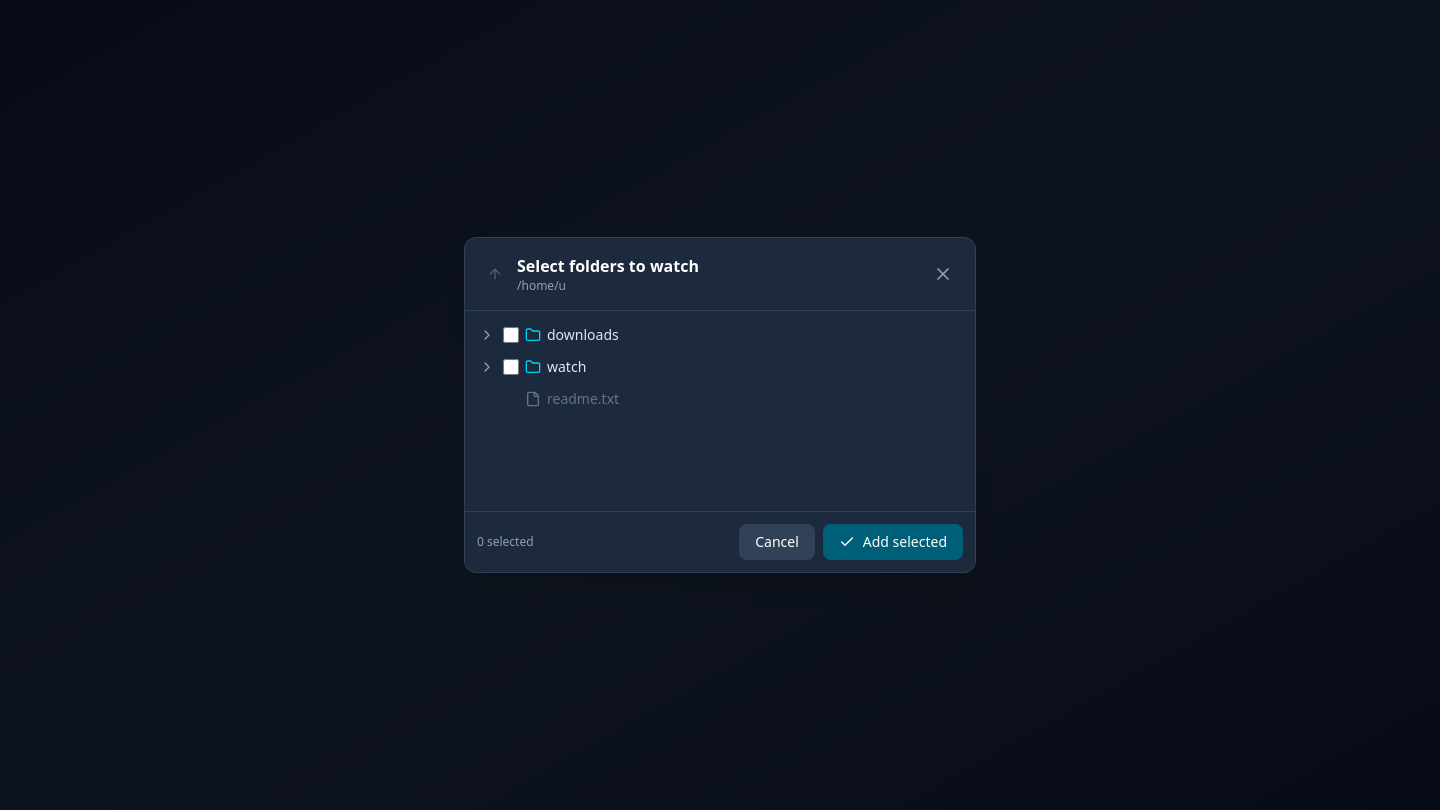
Test: FolderBrowser › multi-select: checkbox or name toggles, and confirm hands back every path
Later steps or results of the test are not shown.
Click the button "downloads" at x=583, y=334, box [547,325,959,345]
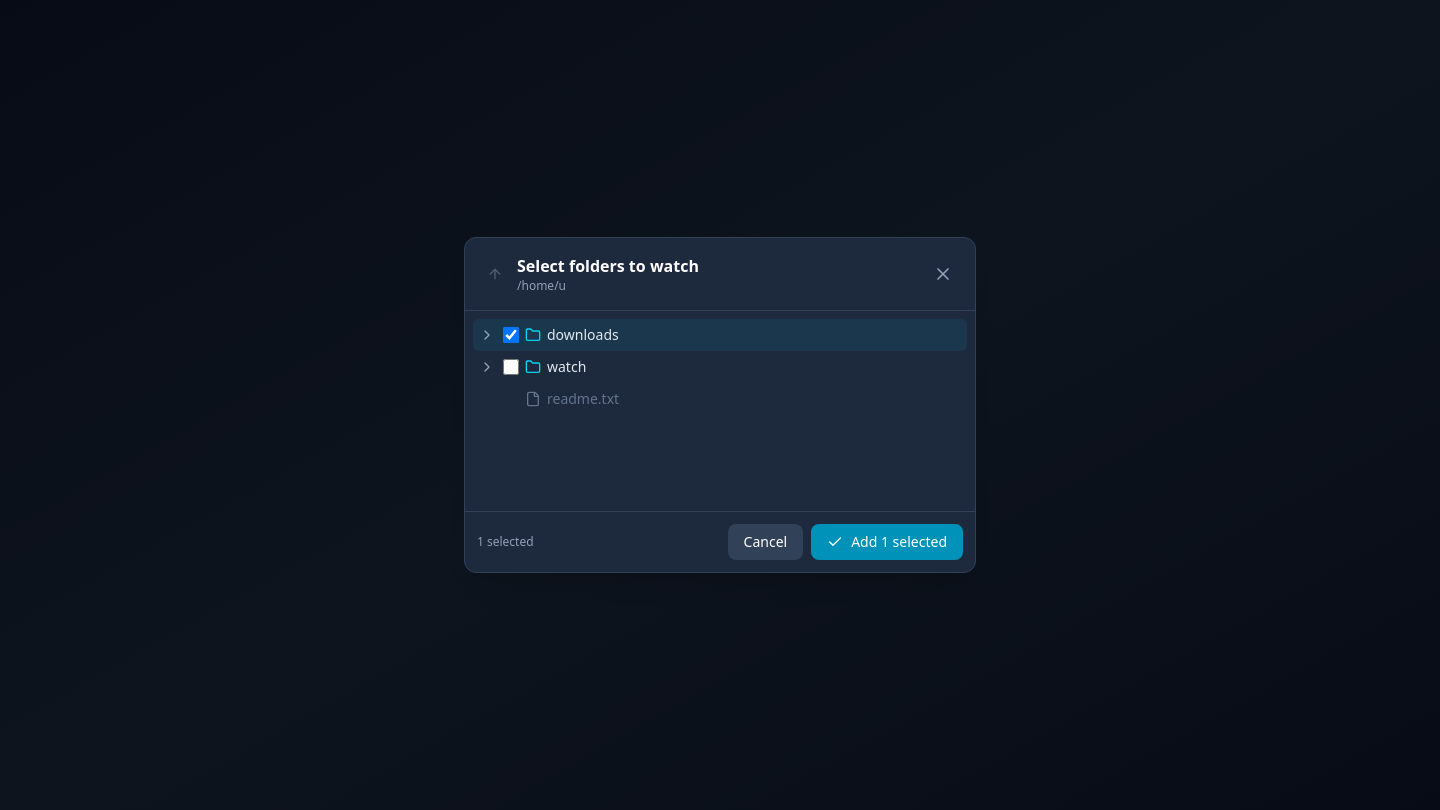
Click the 2nd checkbox at x=511, y=367, box [503,359,519,375]
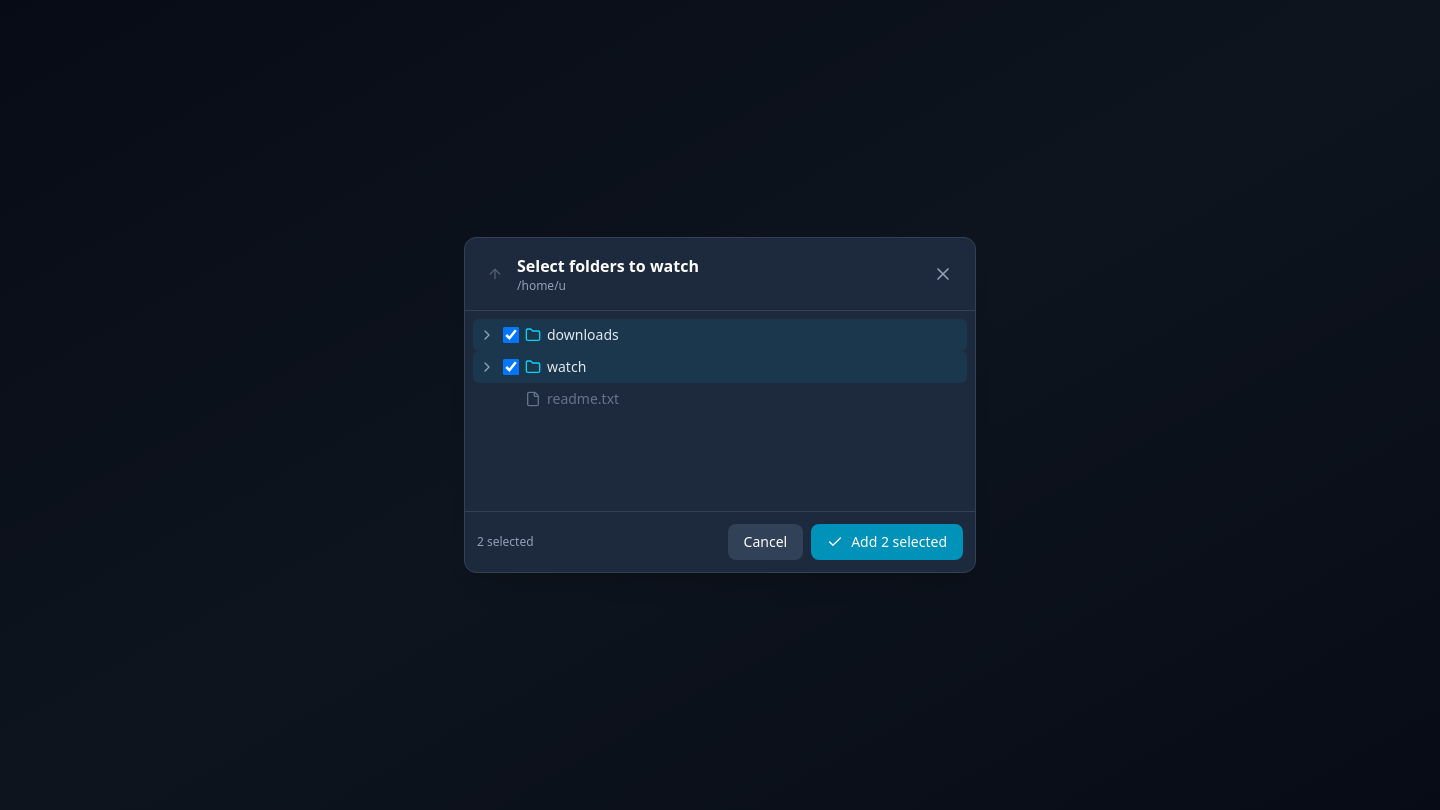
Now the text "2 selected" is shown, box [477,534,534,550]
Click the button "downloads" at x=583, y=334, box [547,325,959,345]
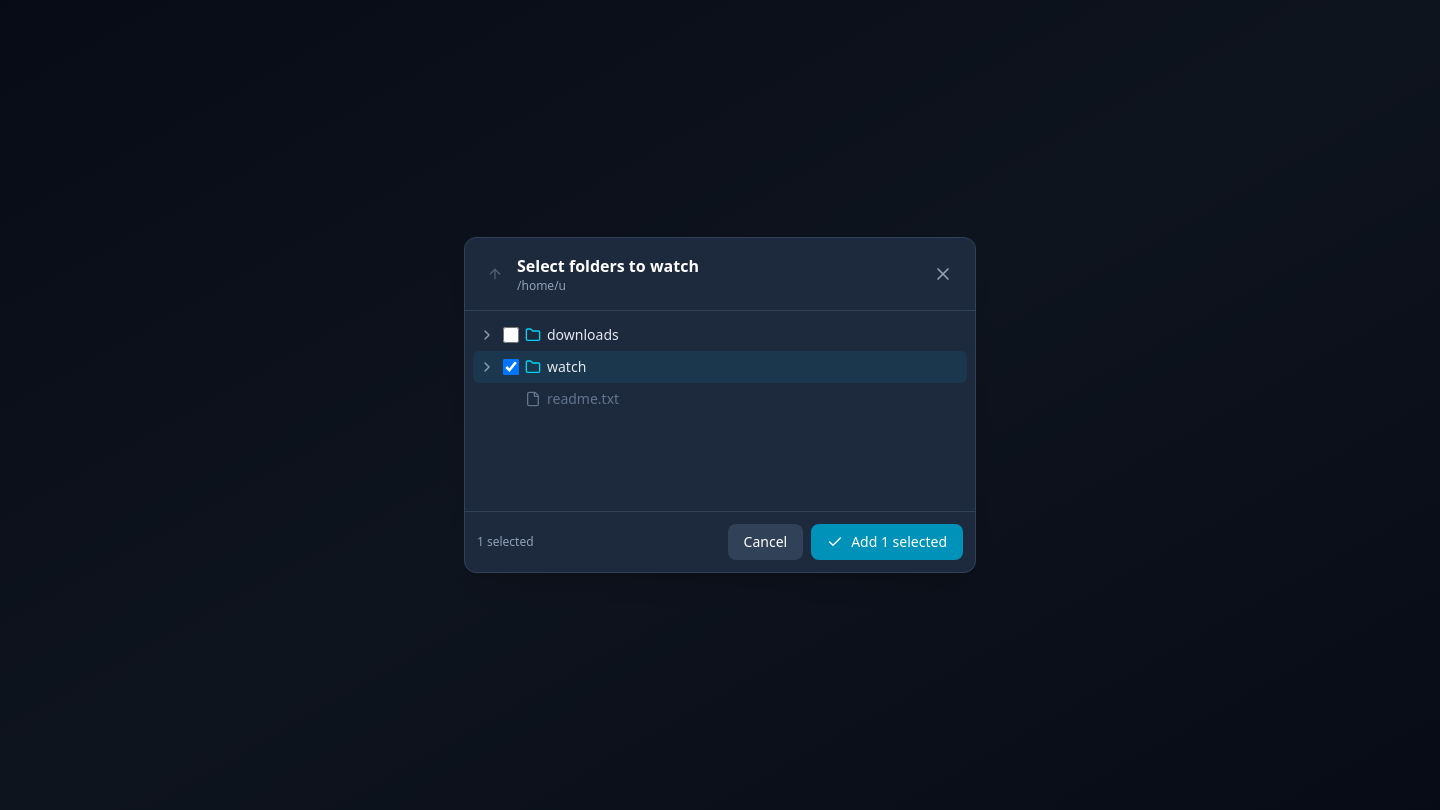
Now the text "1 selected" is shown, box [477,534,534,550]
